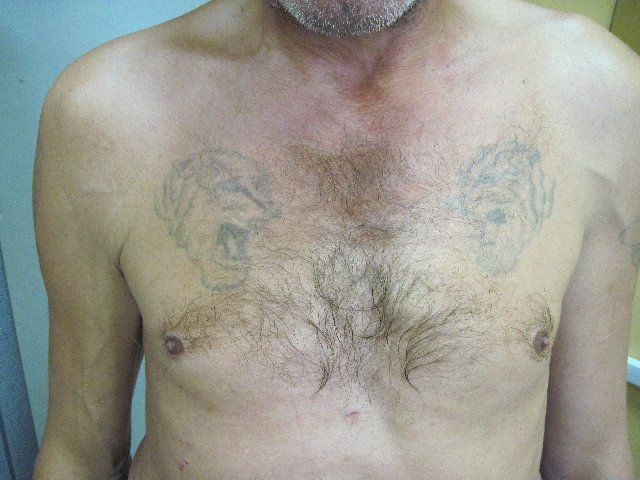tatu5_tigr: (154, 145, 275, 291)
